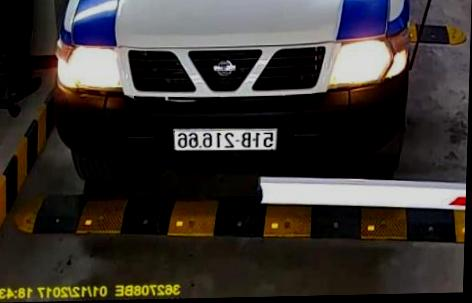License_Plate: (164, 122, 284, 155)
